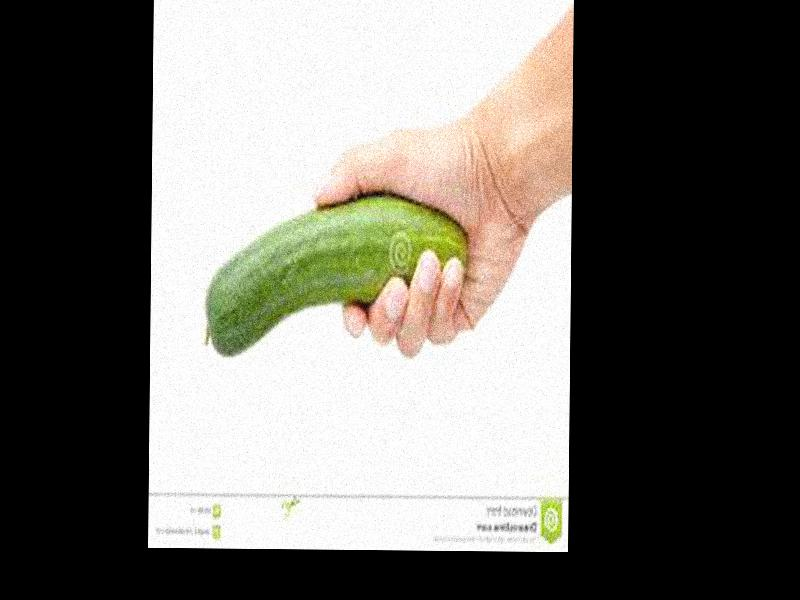Cucumber: (203, 197, 467, 359)
